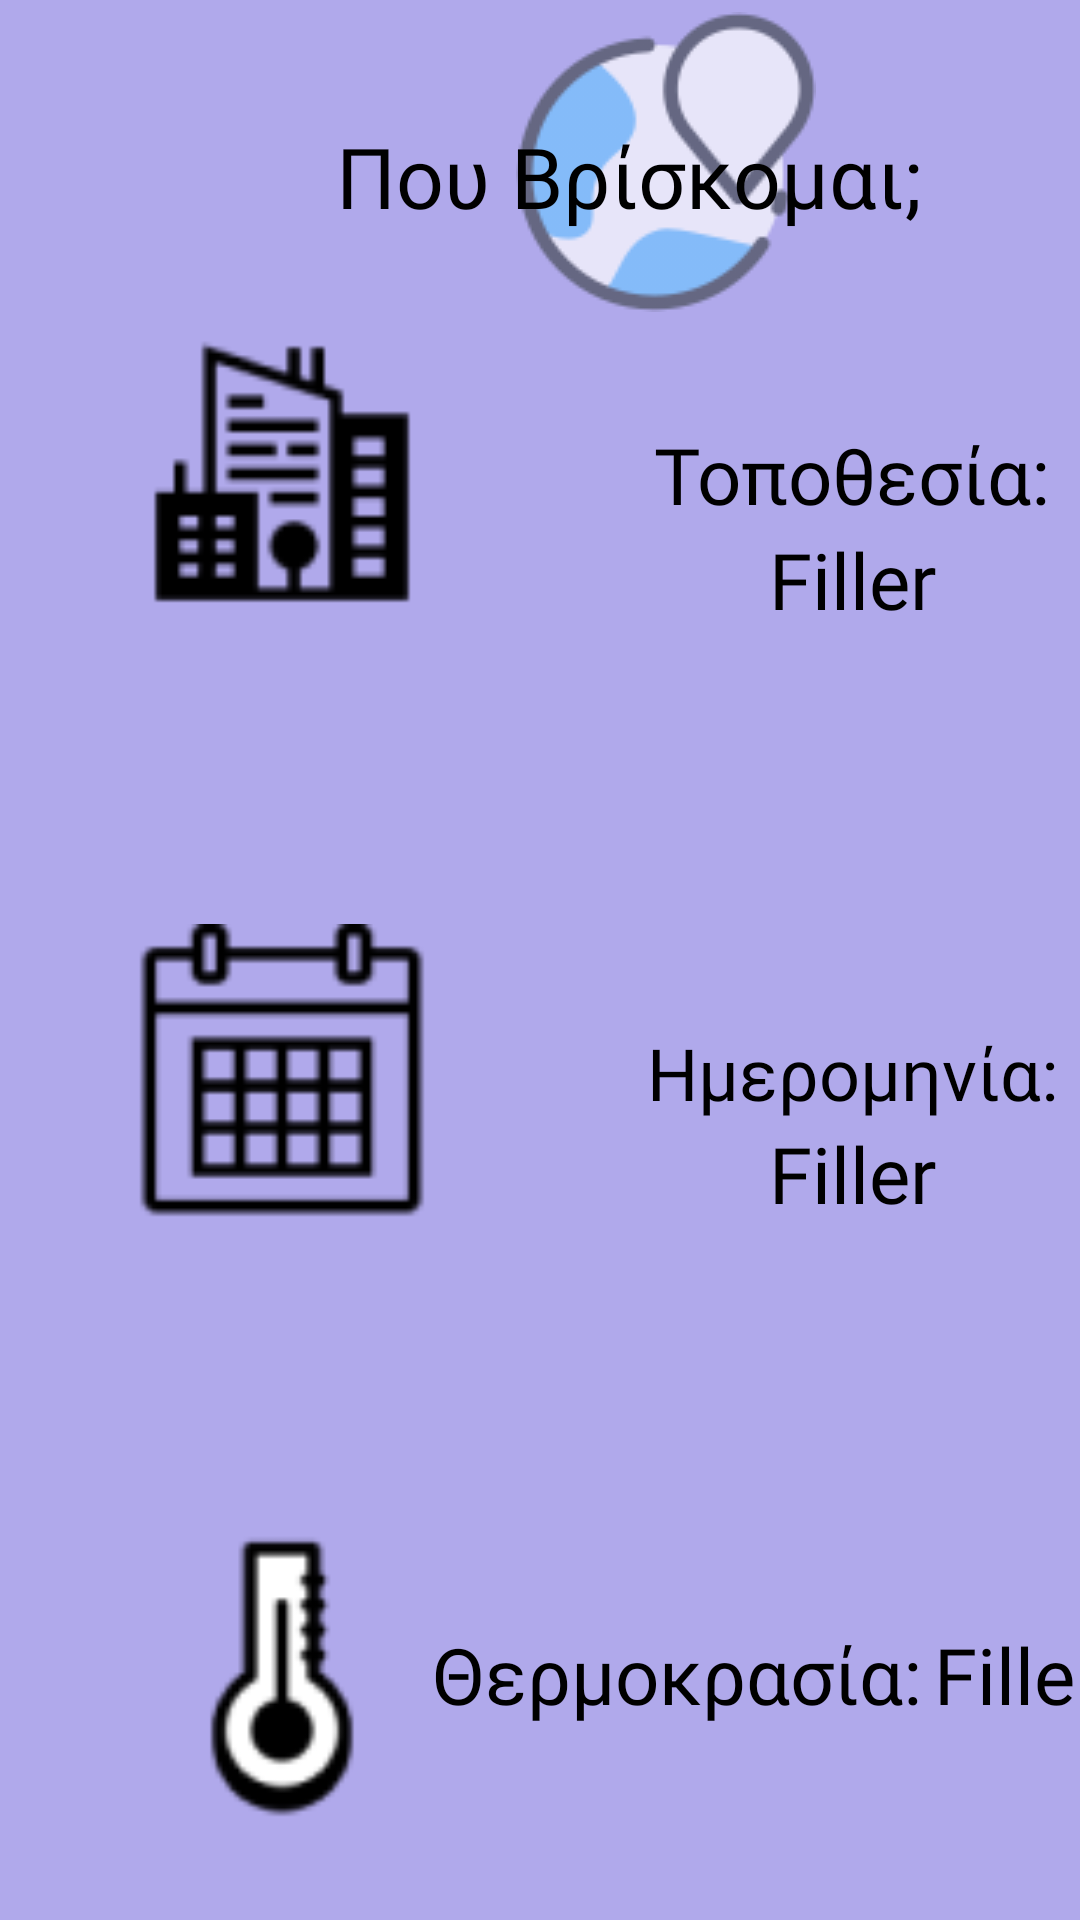

Locate icon controls on the screen. Image size 1080*1920, boxes as [left=x1, top=y1, right=x2, bottom=y2].
calendar: [left=140, top=924, right=424, bottom=1216]
city: [left=154, top=343, right=410, bottom=602]
temperature: [left=210, top=1540, right=354, bottom=1816]
